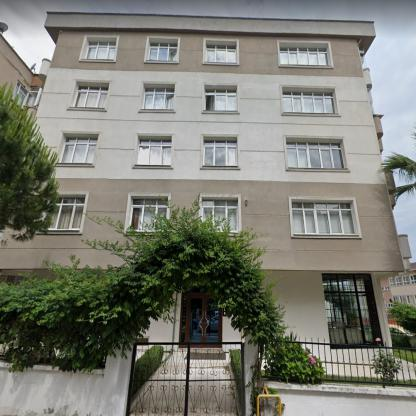door: (178, 292, 223, 348)
window: (323, 275, 384, 348), (291, 201, 358, 235), (286, 141, 346, 170), (128, 195, 168, 231), (282, 90, 336, 114), (50, 196, 85, 230), (202, 198, 237, 231), (58, 136, 97, 164), (136, 138, 172, 166), (280, 47, 330, 66), (202, 139, 237, 166), (72, 84, 107, 109), (203, 89, 237, 111), (142, 87, 174, 109), (205, 43, 237, 65), (148, 42, 178, 63), (84, 40, 116, 59), (23, 86, 42, 106), (13, 81, 28, 105), (403, 274, 410, 286), (388, 278, 396, 286), (396, 277, 403, 286), (410, 276, 416, 284)
